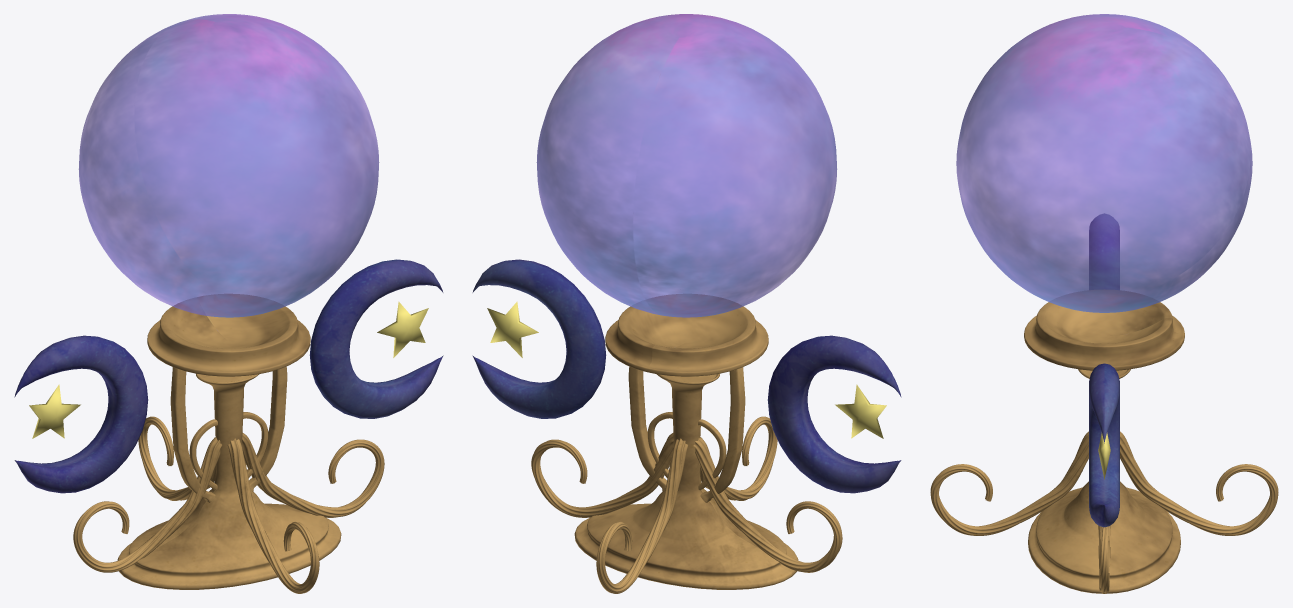
File: thunder_beads.glb
3 views of the same model, side by side, from view 1: azimuth 30°, elevation 25°; view 2: azimuth 150°, elevation 25°; view 3: azimuth 270°, elevation 25° (orthographic).
Visible parts, largest first — view 1: polySurface206; view 2: polySurface206; view 3: polySurface206.
Part boxes in pixels (x1,y1,x2,y2): polySurface206: (14,14,443,593); polySurface206: (472,14,901,593); polySurface206: (930,14,1278,593).
Size of the model in its own units: 0.1265 by 0.1479 by 0.0902.
Materials: 1 (1 with a texture image).
